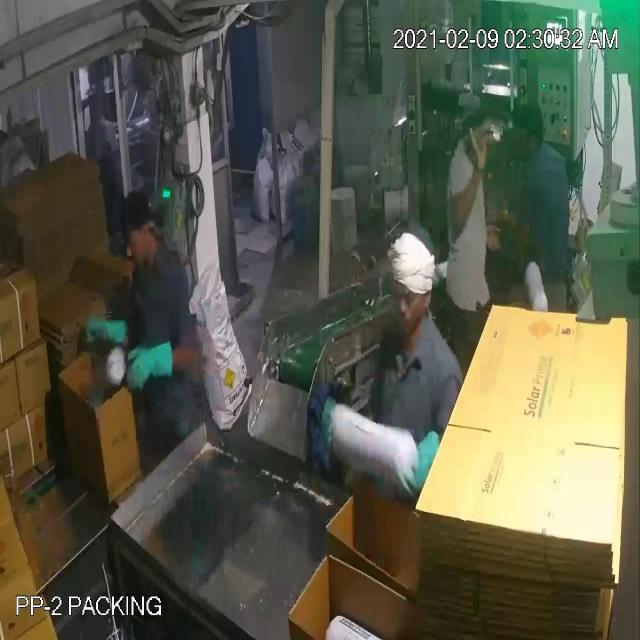Gloves: (43, 50, 471, 462)
